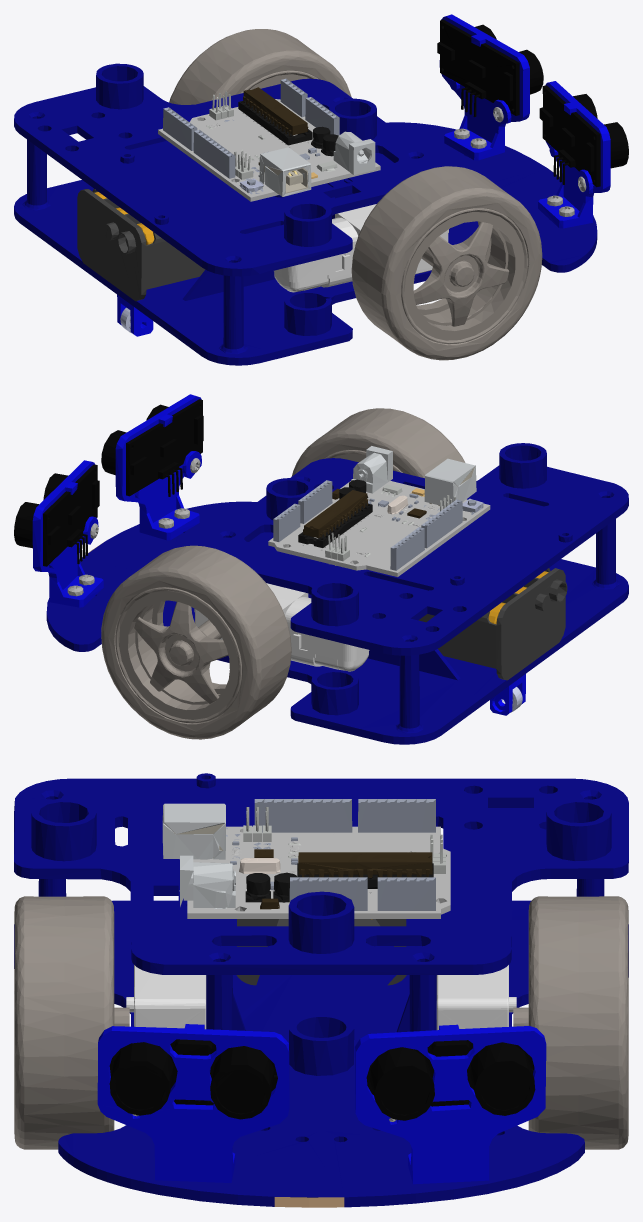
The picture shows the model from 3 angles, top to bottom: view 1: azimuth 30°, elevation 25°; view 2: azimuth 150°, elevation 25°; view 3: azimuth 270°, elevation 25°; orthographic projection. The views are drawn at different scales.
Visible parts, largest first — view 1: BaseSuperior_3, RodaDireita_10, BaseInferior_5, Arduino_1, SensorEsquerdo_6, SensorDireito_7, RodaEsquerda_9, ModuloPilhas_2, MotorDireito_4, RodaBoba_8; view 2: BaseSuperior_3, RodaEsquerda_9, BaseInferior_5, Arduino_1, SensorDireito_7, SensorEsquerdo_6, ModuloPilhas_2, RodaDireita_10, MotorEsquerdo_0, RodaBoba_8; view 3: BaseSuperior_3, BaseInferior_5, Arduino_1, RodaDireita_10, RodaEsquerda_9, SensorDireito_7, SensorEsquerdo_6, MotorEsquerdo_0, MotorDireito_4, ModuloPilhas_2.
Boxes of the visible parts, x1,y1,x2,y2 form: BaseSuperior_3: [14, 63, 444, 276]; RodaDireita_10: [351, 166, 542, 360]; BaseInferior_5: [14, 122, 597, 365]; Arduino_1: [158, 78, 380, 201]; SensorEsquerdo_6: [437, 14, 543, 160]; SensorDireito_7: [538, 81, 628, 228]; RodaEsquerda_9: [169, 29, 351, 104]; ModuloPilhas_2: [77, 189, 205, 301]; MotorDireito_4: [274, 204, 448, 292]; RodaBoba_8: [117, 294, 153, 336]; BaseSuperior_3: [198, 443, 628, 655]; RodaEsquerda_9: [101, 545, 291, 739]; BaseInferior_5: [46, 501, 628, 744]; Arduino_1: [268, 446, 490, 576]; SensorDireito_7: [101, 394, 203, 540]; SensorEsquerdo_6: [14, 460, 103, 607]; ModuloPilhas_2: [418, 568, 567, 680]; RodaDireita_10: [291, 408, 465, 478]; MotorEsquerdo_0: [194, 583, 369, 671]; RodaBoba_8: [490, 674, 525, 715]; BaseSuperior_3: [14, 773, 628, 974]; BaseInferior_5: [14, 879, 628, 1207]; Arduino_1: [162, 799, 450, 918]; RodaDireita_10: [14, 896, 129, 1149]; RodaEsquerda_9: [513, 896, 628, 1149]; SensorDireito_7: [97, 1024, 289, 1182]; SensorEsquerdo_6: [354, 1024, 546, 1184]; MotorEsquerdo_0: [436, 965, 516, 1030]; MotorDireito_4: [126, 965, 206, 1029]; ModuloPilhas_2: [236, 919, 406, 985].
Size of the model in its own units: 34.11 by 12.85 by 28.8.
